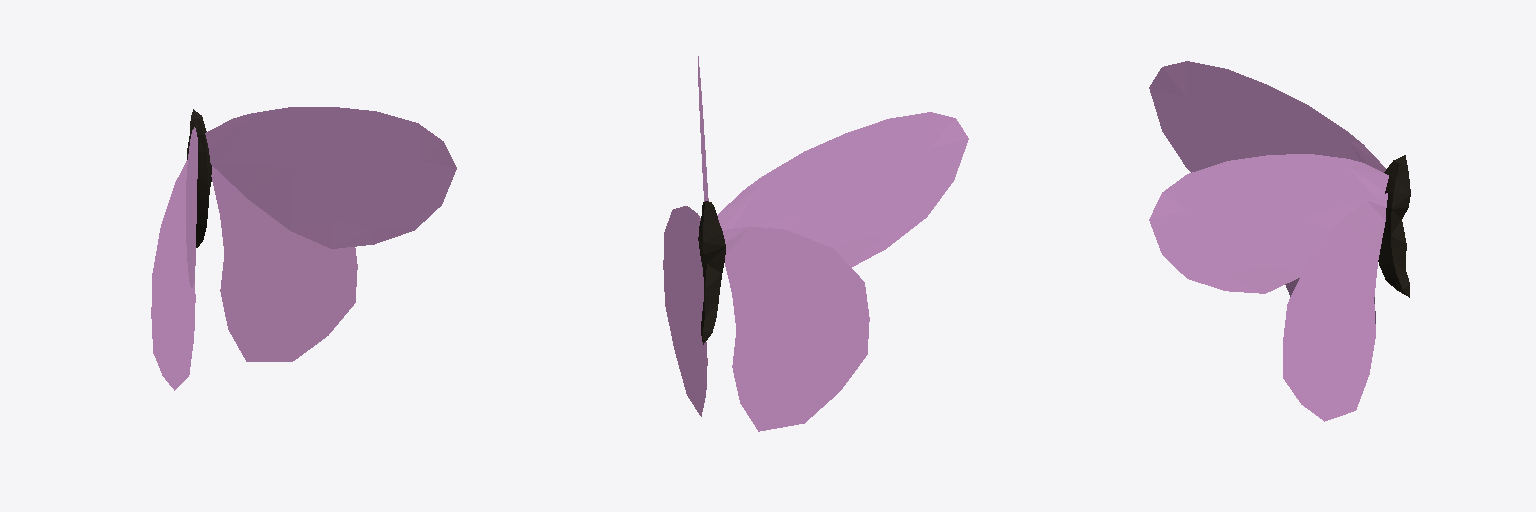
The model's file is 200cnt_butterfly3.obj.
The picture shows the model from 3 angles: view 1: azimuth 30°, elevation 25°; view 2: azimuth 150°, elevation 25°; view 3: azimuth 270°, elevation 25°; orthographic projection.
Visible parts, largest first — view 1: topwings polySurface25, bottomWings polySurface25, body polySurface25; view 2: bottomWings polySurface25, topwings polySurface25, body polySurface25; view 3: topwings polySurface25, bottomWings polySurface25, body polySurface25.
Boxes of the visible parts, x1=… form: topwings polySurface25: x1=186, y1=107, x2=456, y2=287; bottomWings polySurface25: x1=151, y1=160, x2=357, y2=390; body polySurface25: x1=187, y1=109, x2=211, y2=247; bottomWings polySurface25: x1=663, y1=206, x2=869, y2=431; topwings polySurface25: x1=698, y1=56, x2=968, y2=267; body polySurface25: x1=698, y1=201, x2=725, y2=344; topwings polySurface25: x1=1149, y1=61, x2=1388, y2=293; bottomWings polySurface25: x1=1283, y1=201, x2=1385, y2=421; body polySurface25: x1=1378, y1=155, x2=1410, y2=297.
Size of the model in its own units: 8.5 by 8.44 by 7.11.